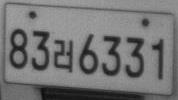1: (148, 37, 169, 80)
3: (124, 36, 145, 78), (30, 29, 50, 71), (101, 34, 121, 76)
6: (78, 32, 98, 75)
8: (8, 27, 28, 69)
러: (53, 39, 74, 72)
